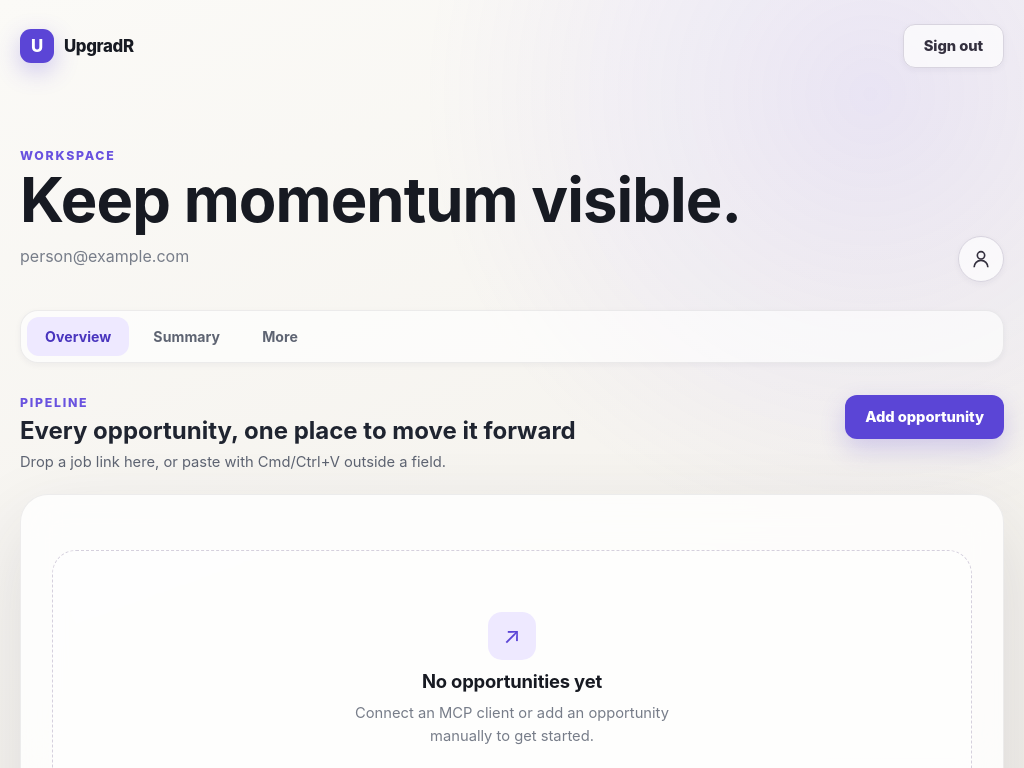
it: App › normalizes a browser-style job posting URL before saving an opportunity
The width and height of the screenshot is (1024, 768).
Expected: the heading "Keep momentum visible." is shown, [20, 171, 741, 230]
Click the button "Add opportunity".
click(925, 417)  # box [845, 395, 1004, 439]
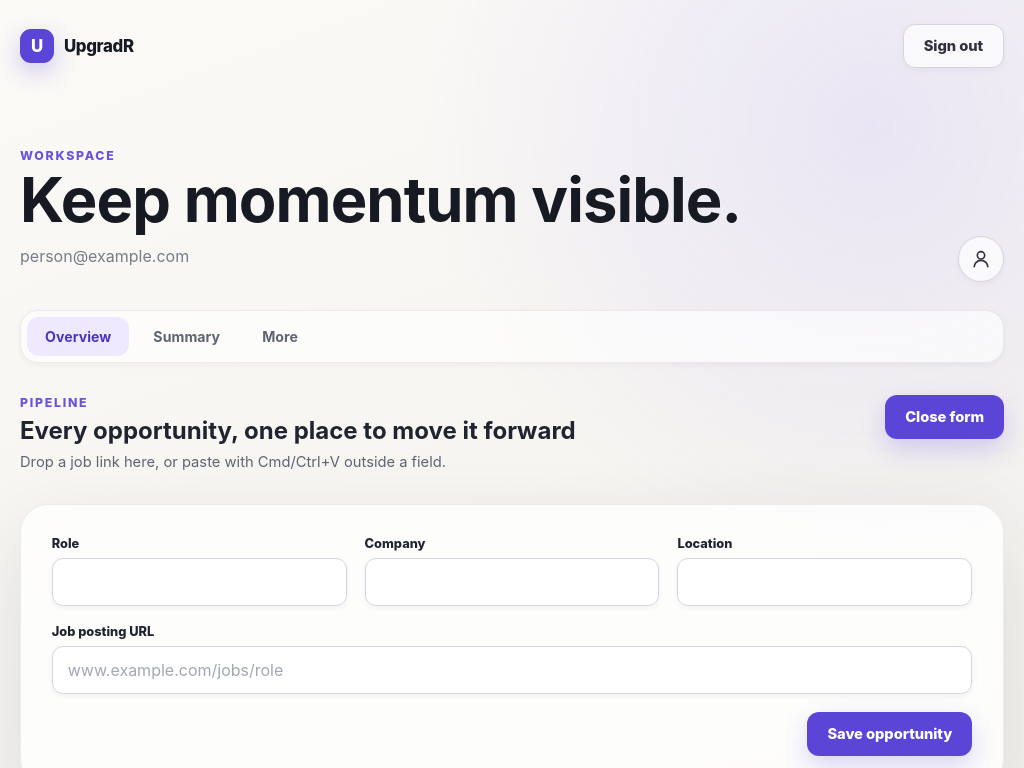
Type "Senior Engineer" into the field labelled "Role".
click(199, 582); type("Senior Engineer")  # box [52, 558, 346, 606]
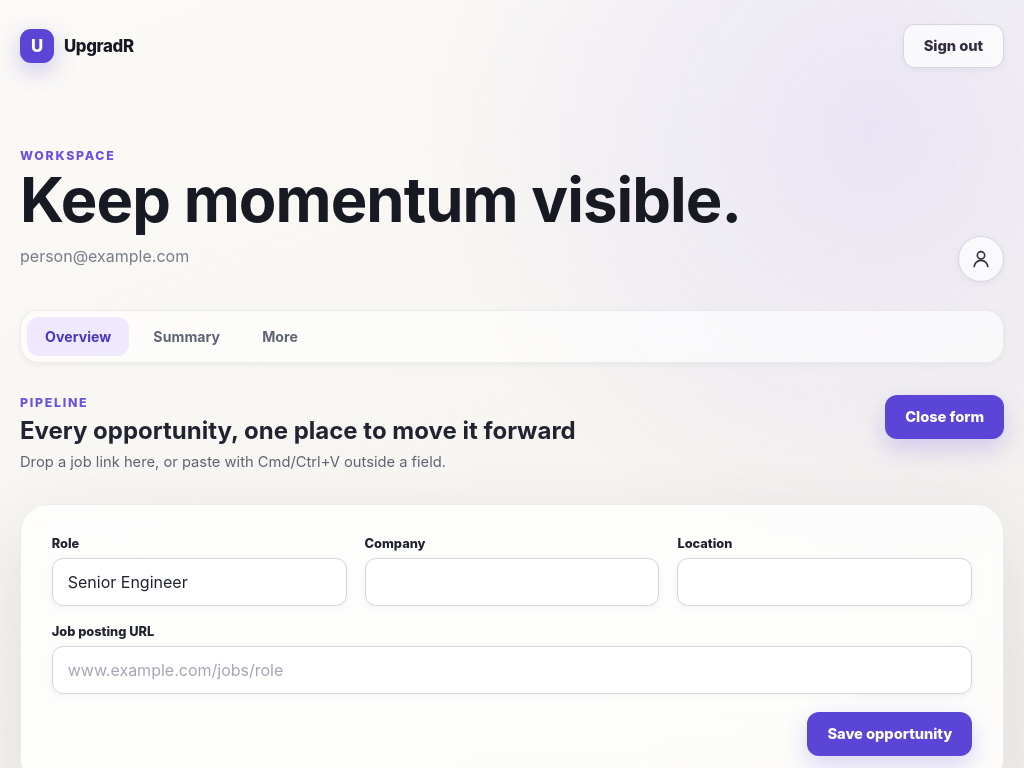
Type "Example" into the field labelled "Company".
click(512, 582); type("Example")  # box [365, 558, 660, 606]
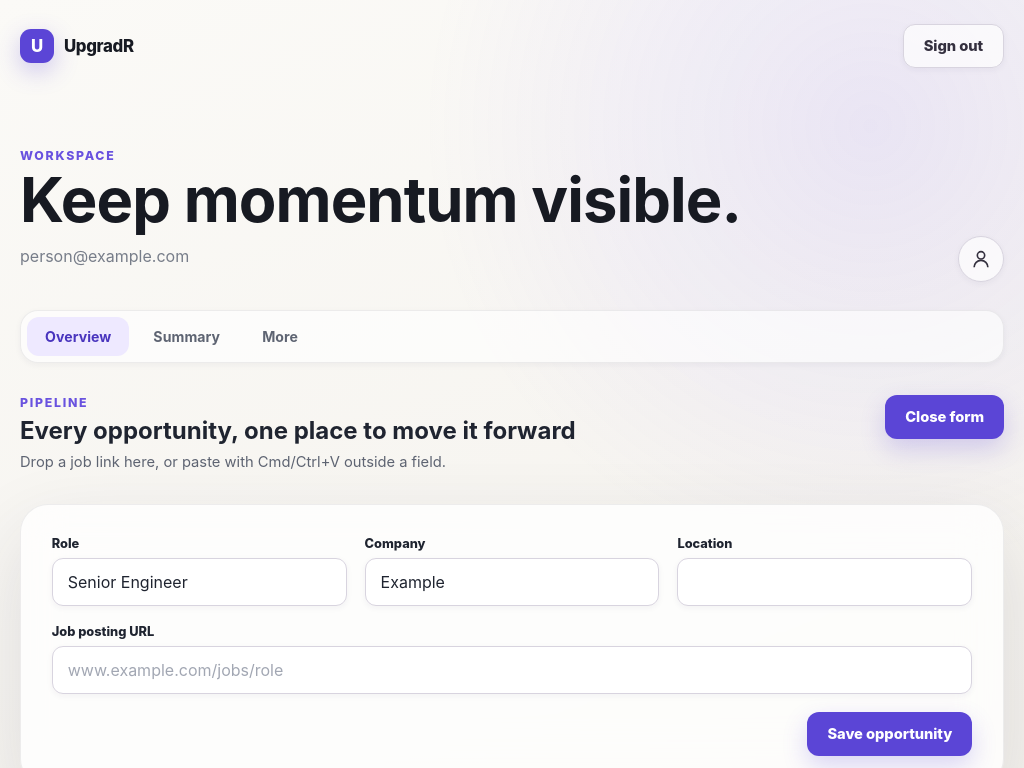
Type "www.example.com/jobs/1" into the field labelled "Job posting URL".
click(512, 670); type("www.example.com/jobs/1")  # box [52, 646, 972, 694]
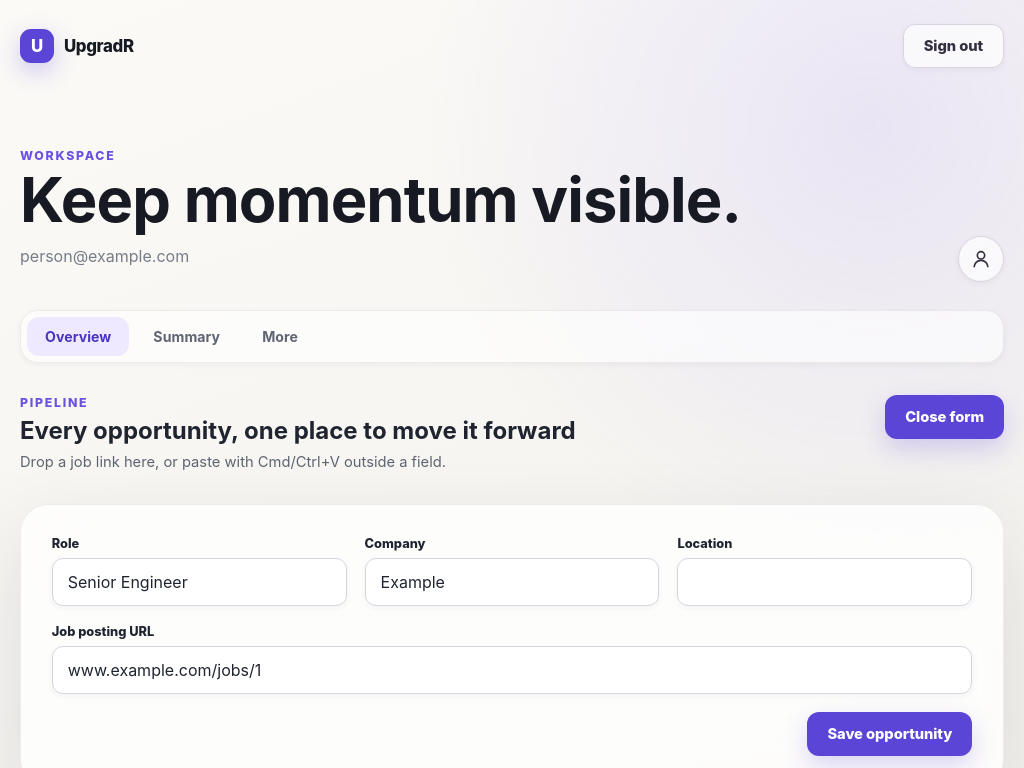
Click the button "Save opportunity".
click(890, 734)  # box [807, 712, 972, 756]
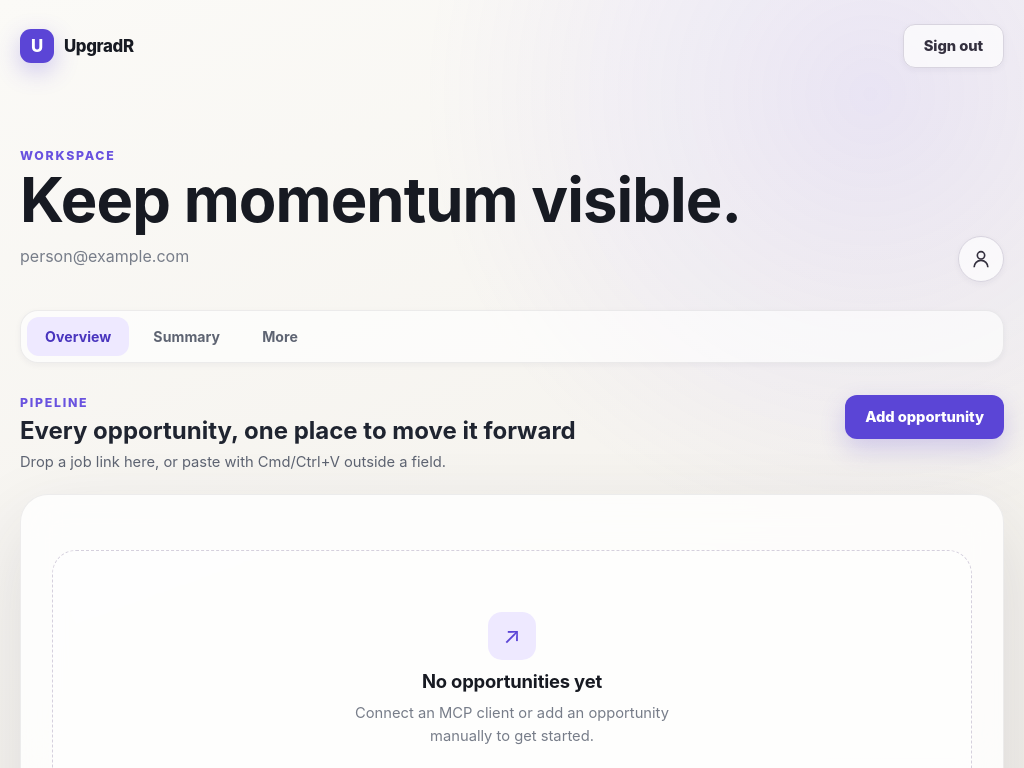
Now the button "Add opportunity" is shown, box [845, 395, 1004, 439]
